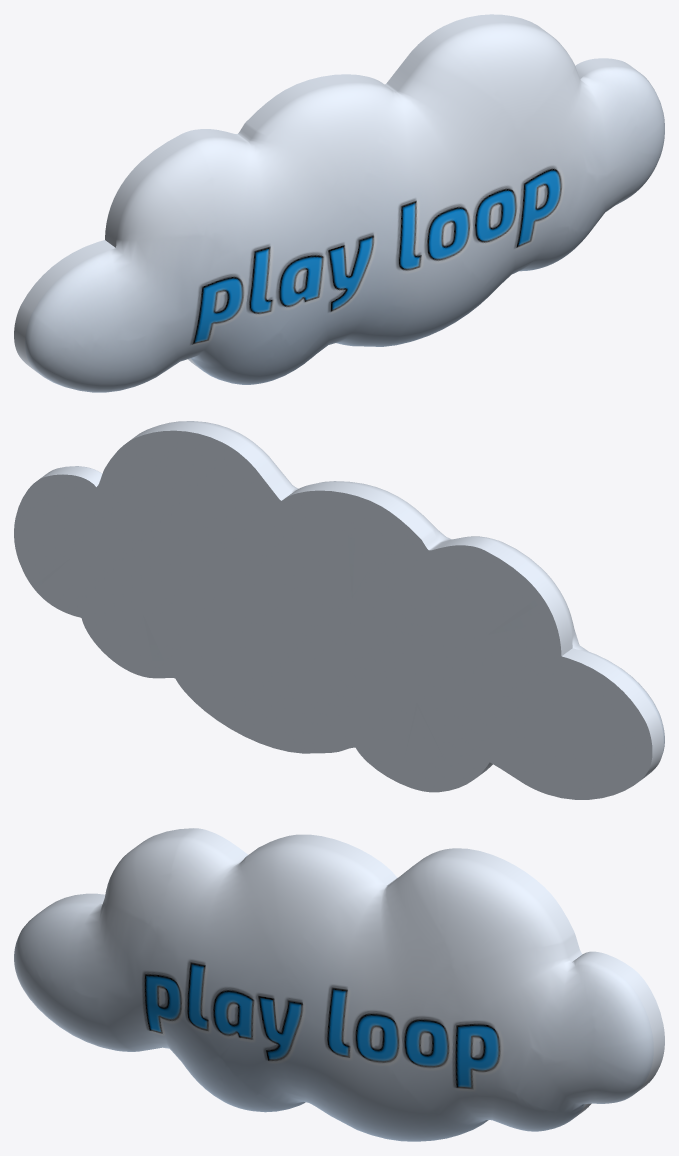
Rendered from cloud_playloop.obj.
The picture shows the model from 3 angles, top to bottom: view 1: azimuth 30°, elevation 25°; view 2: azimuth 150°, elevation 25°; view 3: azimuth 330°, elevation 25°; orthographic projection.
Visible parts, largest first — view 1: cloud2_flat; view 2: cloud2_flat; view 3: cloud2_flat.
Part boxes in pixels (left/top/right/bottom): cloud2_flat: left=14, top=14, right=664, bottom=392; cloud2_flat: left=14, top=421, right=664, bottom=799; cloud2_flat: left=14, top=828, right=664, bottom=1141.
Bounding box in the file's own units: 19.47 × 8.83 × 2.24.
